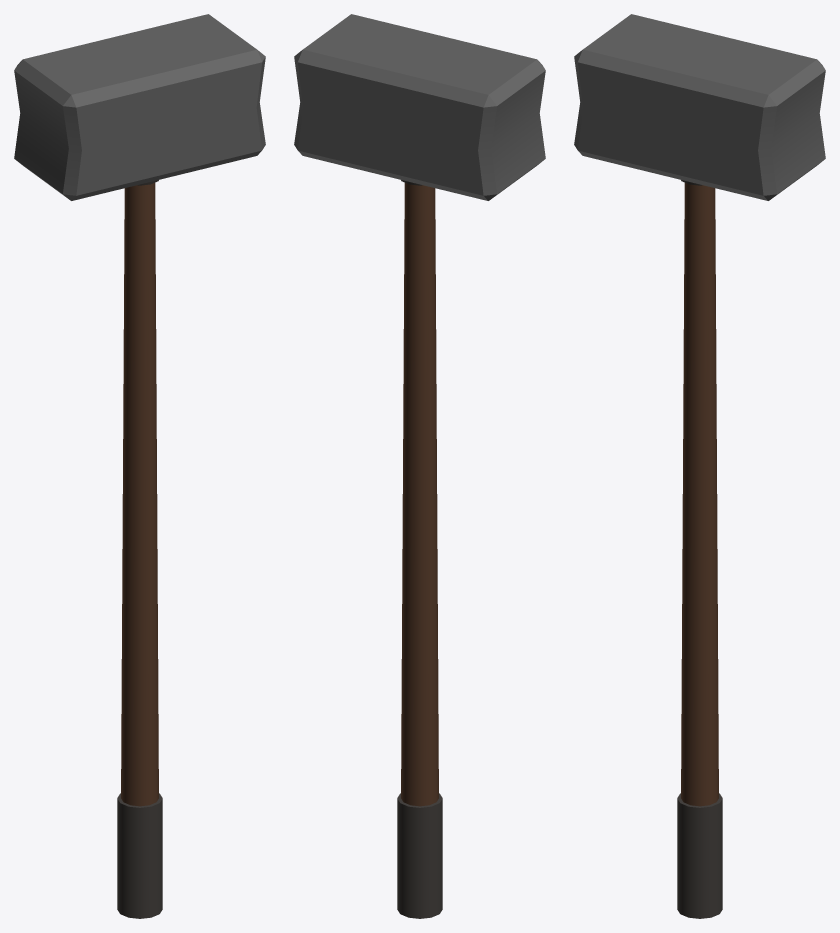
Rendered from Great War Hammer.glb.
The picture shows the model from 3 angles, left to right: view 1: azimuth 30°, elevation 25°; view 2: azimuth 150°, elevation 25°; view 3: azimuth 330°, elevation 25°; orthographic projection.
Parts seen in each view (by area): view 1: Great War Hammer; view 2: Great War Hammer; view 3: Great War Hammer.
Part boxes in pixels (x1,y1,x2,y2): Great War Hammer: [14, 14, 265, 918]; Great War Hammer: [294, 14, 545, 918]; Great War Hammer: [574, 14, 825, 918].
Size of the model in its own units: 0.3378 by 1.36 by 0.1689.
1 material, 1 textured.
